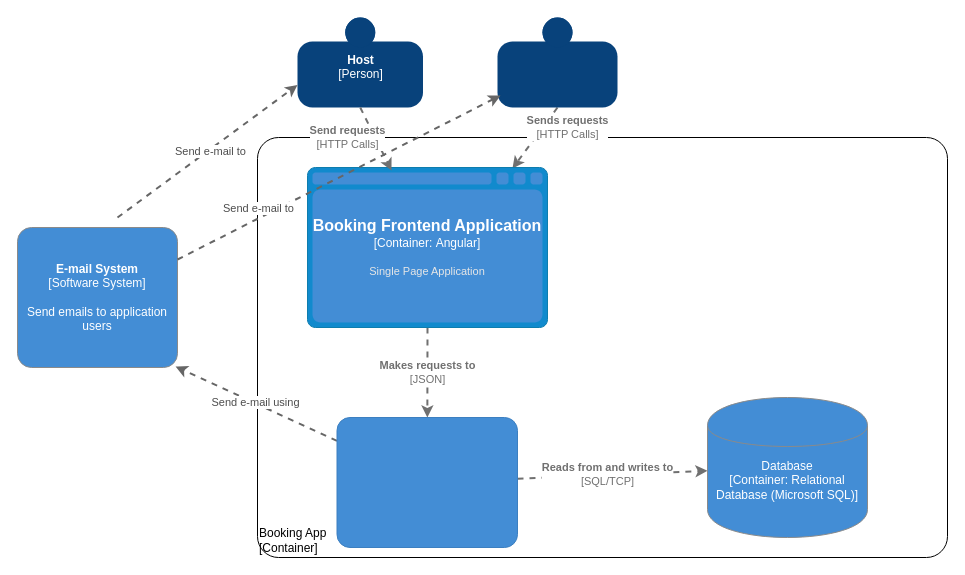
The diagram is 965 pixels wide and 575 high, and some of its shapes have lost their labels. Here are the shapes that lost their labels. From the top down, the centre of each, then its label:
At [557,62]: "Guest [Person]".
At [427,482]: "API Service [Container: C#]".
